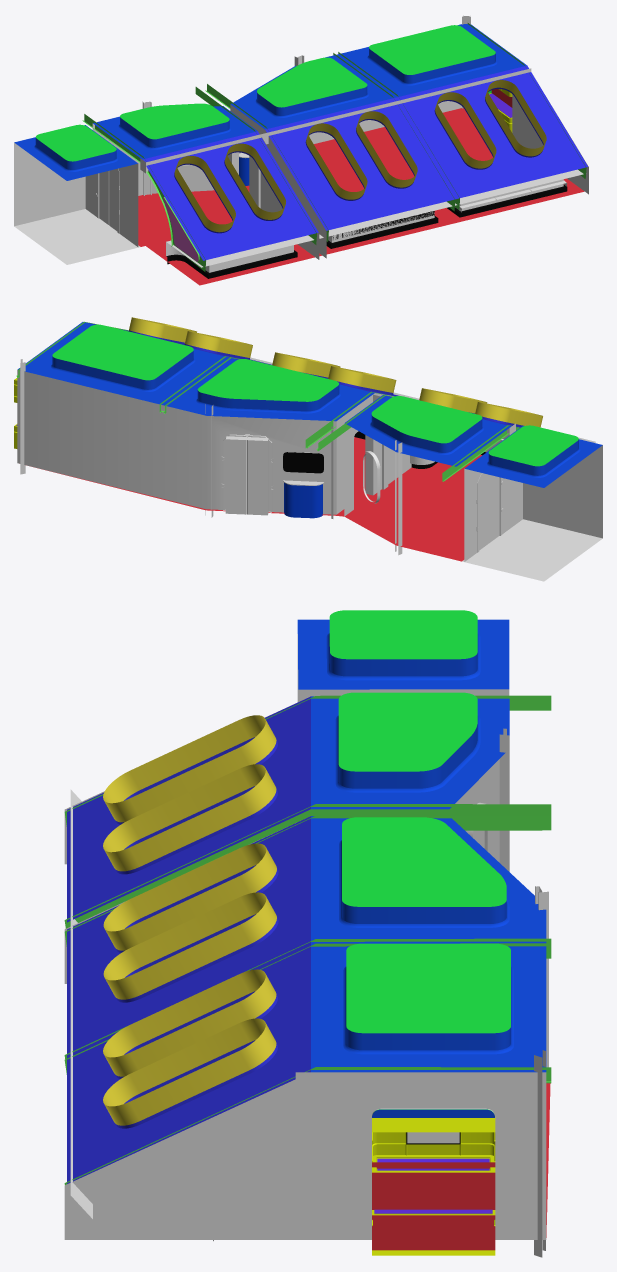
File: TNG_quarters.gltf
3 renders of one model, top to bottom at view 1: azimuth 30°, elevation 25°; view 2: azimuth 150°, elevation 25°; view 3: azimuth 270°, elevation 25°, orthographic. The views are drawn at different scales.
Parts seen in each view (by area): view 1: Living Room.001, Living Room.004, Floor, Floor.002, Restroom, Living Room, Bedroom, Living Room.002, Bedroom.004, Cube.003, Bedroom.005, Cube.002 (+5 smaller); view 2: Living Room.004, Living Room, Floor, Restroom, Living Room.001, Cube.005, Cube.004, Bedroom, Cylinder.003, Living Room.008, Cube.002, Cube.003 (+7 smaller); view 3: Living Room.004, Living Room.001, Living Room, Cube.001, Bedroom.003, Bedroom.002, Bedroom, Bedroom.005, Plane, Living Room.006, Restroom, Living Room.008 (+2 smaller).
Part boxes in pixels (<box>): Living Room.001: <box>142,65,587,260</box>; Living Room.004: <box>14,24,526,180</box>; Floor: <box>14,108,584,285</box>; Floor.002: <box>166,169,583,278</box>; Restroom: <box>14,142,138,246</box>; Living Room: <box>230,89,588,258</box>; Bedroom: <box>92,123,319,259</box>; Living Room.002: <box>140,68,531,173</box>; Bedroom.004: <box>82,114,205,271</box>; Cube.003: <box>99,171,109,224</box>; Bedroom.005: <box>333,52,459,211</box>; Cube.002: <box>109,169,117,230</box>; Living Room.004: <box>17,322,602,487</box>; Living Room: <box>17,370,386,514</box>; Floor: <box>33,437,602,581</box>; Restroom: <box>464,445,602,561</box>; Living Room.001: <box>87,317,542,427</box>; Cube.005: <box>225,436,247,514</box>; Cube.004: <box>247,437,268,515</box>; Bedroom: <box>344,395,411,516</box>; Cylinder.003: <box>283,480,324,518</box>; Living Room.008: <box>395,440,402,555</box>; Cube.002: <box>488,475,499,543</box>; Cube.003: <box>479,474,488,550</box>; Living Room.004: <box>297,610,546,1072</box>; Living Room.001: <box>67,696,310,1183</box>; Living Room: <box>64,823,546,1250</box>; Cube.001: <box>372,1117,495,1255</box>; Bedroom.003: <box>64,804,551,928</box>; Bedroom.002: <box>64,815,551,946</box>; Bedroom: <box>64,706,499,864</box>; Bedroom.005: <box>64,938,551,1074</box>; Plane: <box>70,789,92,1218</box>; Living Room.006: <box>534,1050,545,1257</box>; Restroom: <box>297,634,509,701</box>; Living Room.008: <box>499,728,509,871</box>.
Size of the model in its own units: 13.57 by 2.75 by 5.97.
